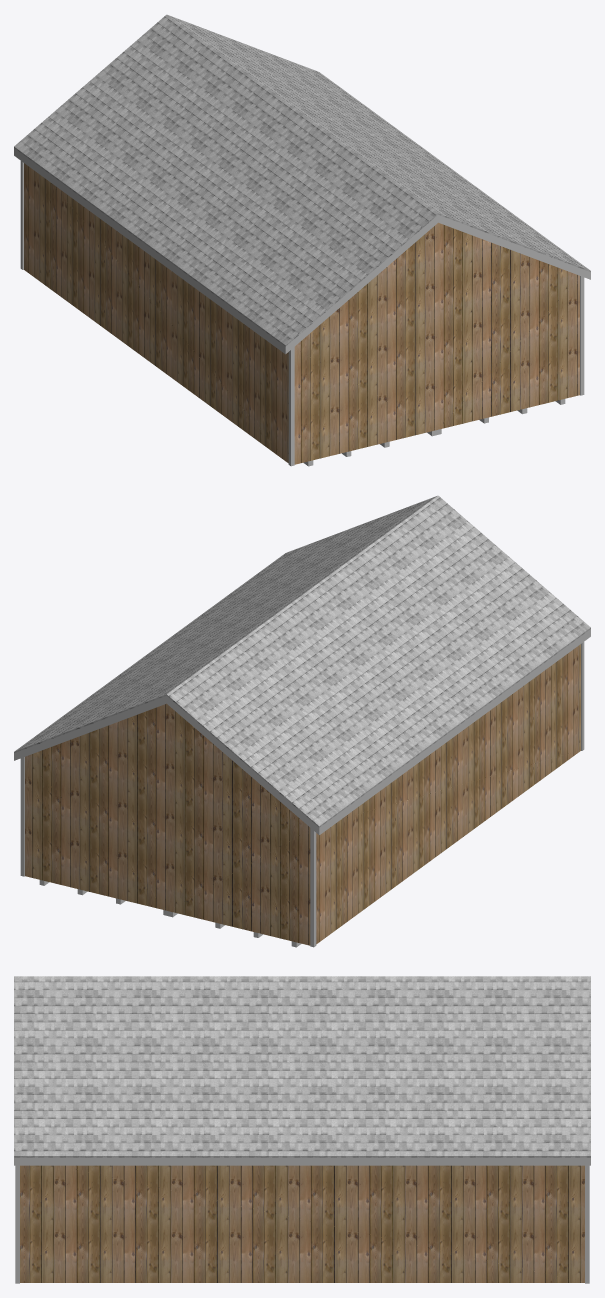
File: Double Garage 6-12 PITCH ROOF_20x32.obj
3 renders of one model, top to bottom at view 1: azimuth 30°, elevation 25°; view 2: azimuth 150°, elevation 25°; view 3: azimuth 270°, elevation 25°, orthographic. The views are drawn at different scales.
Parts seen in each view (by area): view 1: Roof, Shed, Sides, Trim; view 2: Roof, Shed, Sides, Trim; view 3: Roof, Shed, Sides, Trim.
Boxes of the visible parts, x1,y1,x2,y2 form: Roof: (14, 14, 590, 346); Shed: (24, 163, 579, 464); Sides: (14, 148, 590, 354); Trim: (20, 161, 584, 466); Roof: (14, 495, 590, 827); Shed: (25, 644, 580, 945); Sides: (14, 629, 590, 835); Trim: (20, 642, 584, 947); Roof: (14, 976, 590, 1157); Shed: (20, 1165, 584, 1282); Sides: (14, 1157, 590, 1165); Trim: (15, 1165, 589, 1283).
Size of the model in its own units: 6.4 by 4.46 by 9.86.
